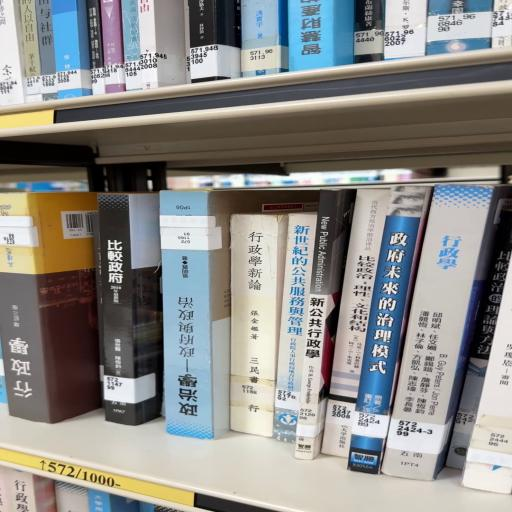reverse: (161, 191, 317, 440), (1, 193, 102, 424)
